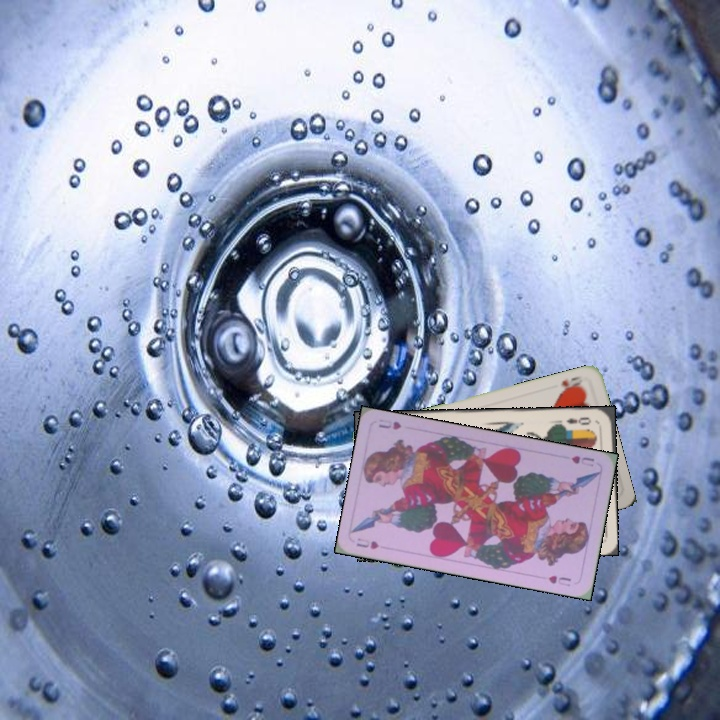EO: (563, 413, 593, 427)
HO: (554, 372, 585, 396)
HU: (567, 451, 597, 469), (352, 534, 382, 552)
